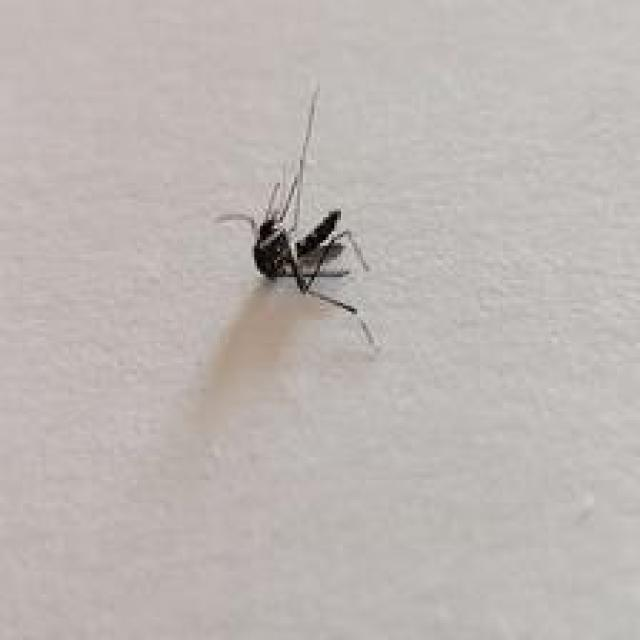Aedes albopictus: (214, 84, 377, 347)
